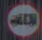Heavy Vehicles: (5, 1, 41, 38)
